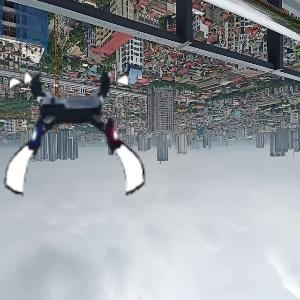drone: (4, 63, 150, 209)
